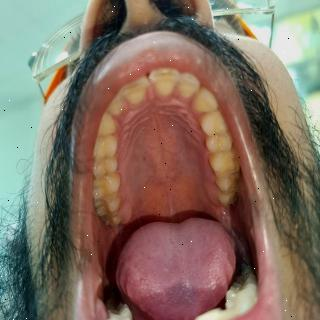cavities: (100, 215, 112, 227)
maligned: (117, 73, 149, 109)
